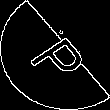P_NE: (20, 25, 90, 85)
